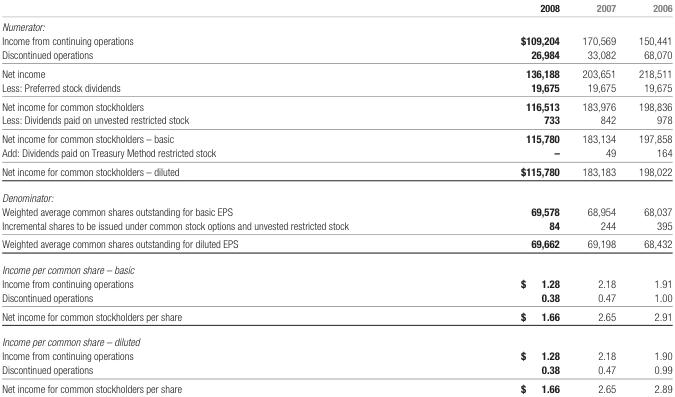table: (1, 1, 671, 394)
table column: (1, 1, 433, 394), (433, 1, 570, 394), (570, 1, 626, 394), (626, 1, 671, 394)
table column header: (1, 1, 671, 16)
table projected row header: (1, 328, 671, 348), (1, 184, 671, 203), (1, 256, 671, 275), (1, 16, 671, 32)
table row: (1, 161, 671, 184), (1, 234, 671, 256), (1, 306, 671, 328), (1, 328, 671, 348), (1, 184, 671, 203), (1, 256, 671, 275), (1, 46, 671, 63), (1, 79, 671, 96), (1, 128, 671, 145), (1, 217, 671, 234), (1, 289, 671, 306), (1, 16, 671, 32), (1, 63, 671, 79), (1, 96, 671, 112), (1, 112, 671, 128), (1, 145, 671, 161), (1, 362, 671, 378), (1, 378, 671, 394), (1, 1, 671, 16), (1, 32, 671, 46), (1, 203, 671, 217), (1, 275, 671, 289), (1, 348, 671, 362)
